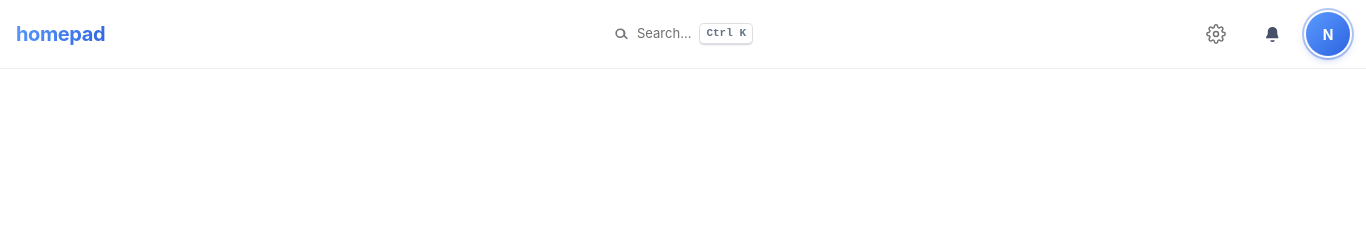
Scenario: A2 — personal items for all users › non-admin also sees Add apps
Click the button with test id "settings-gear" at (1216, 34), box [1194,12,1238,56]
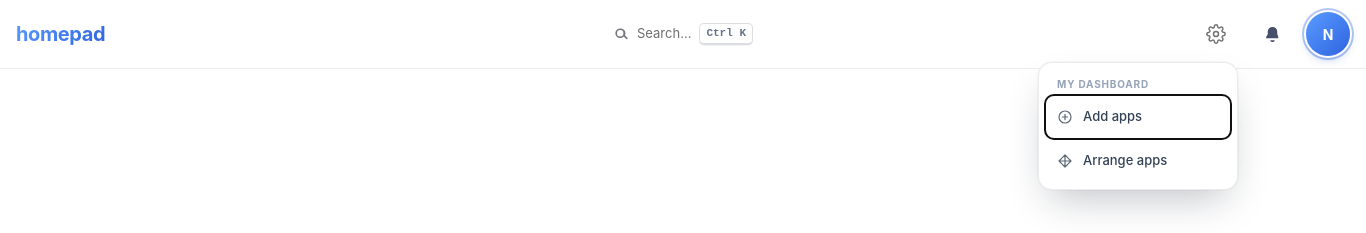
Check: the menu item with test id "gear-add-apps" is shown, box [1045,95,1231,139]
